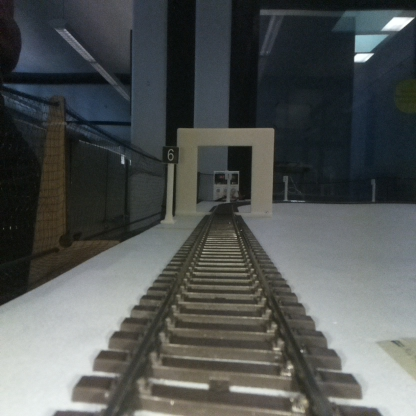black-info-6: (162, 146, 178, 222)
